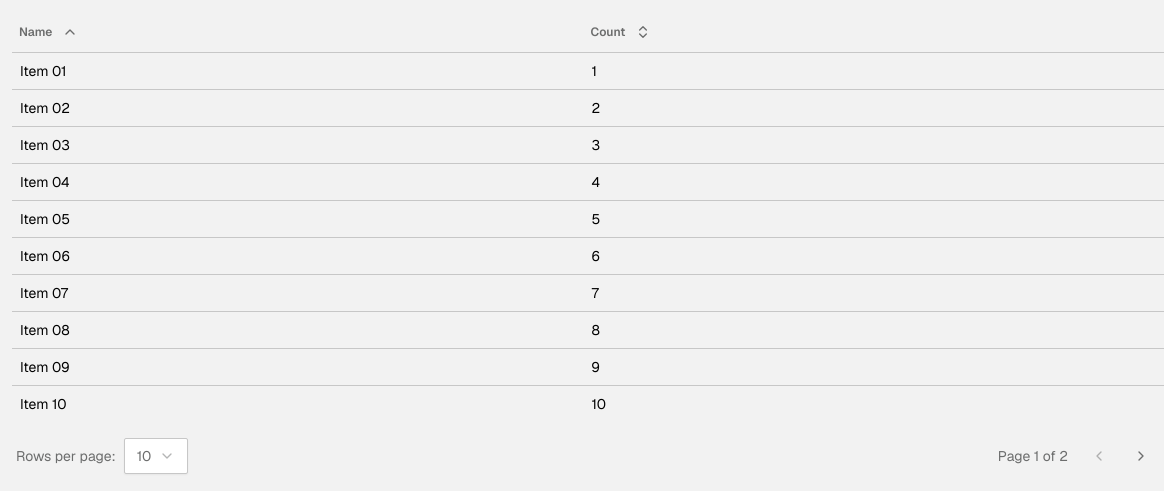
it: prev button navigates back
The image size is (1164, 491).
Click the button named "next page": (1141, 456) [1122,440,1160,472]
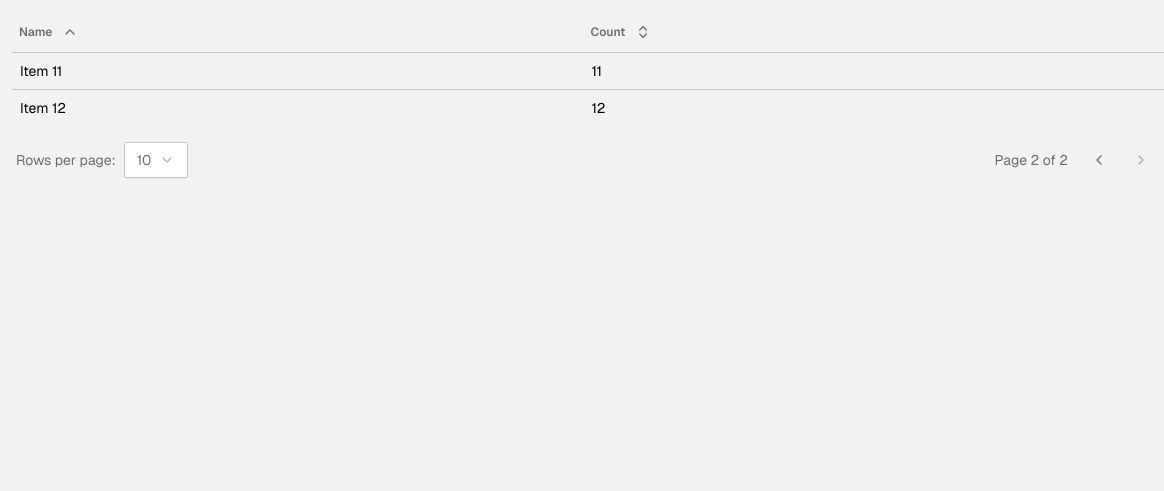
Click the button named "previous page": (1099, 160) [1080,144,1118,176]
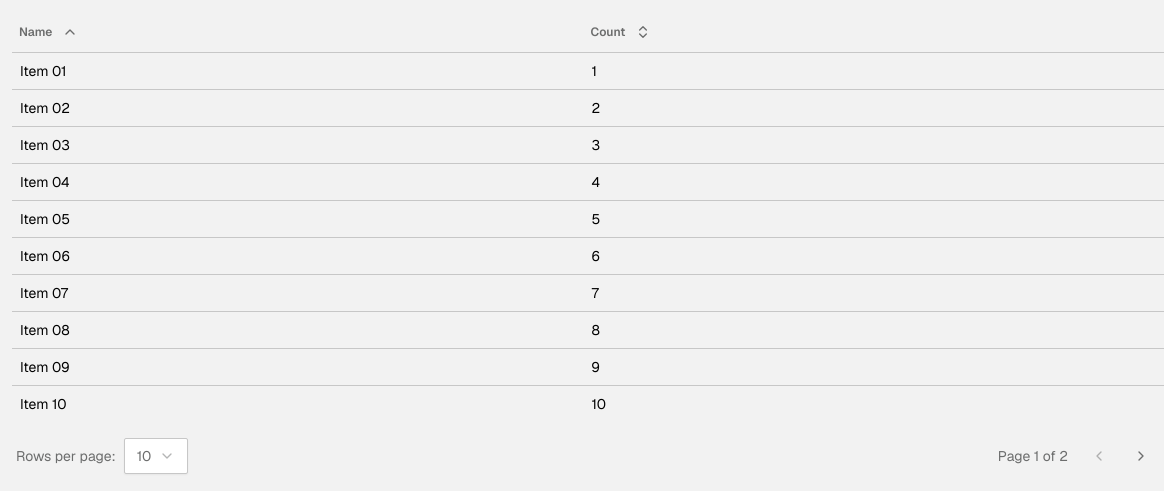
Check: the text "Page 1 of 2" is shown, box [998,446,1068,466]
